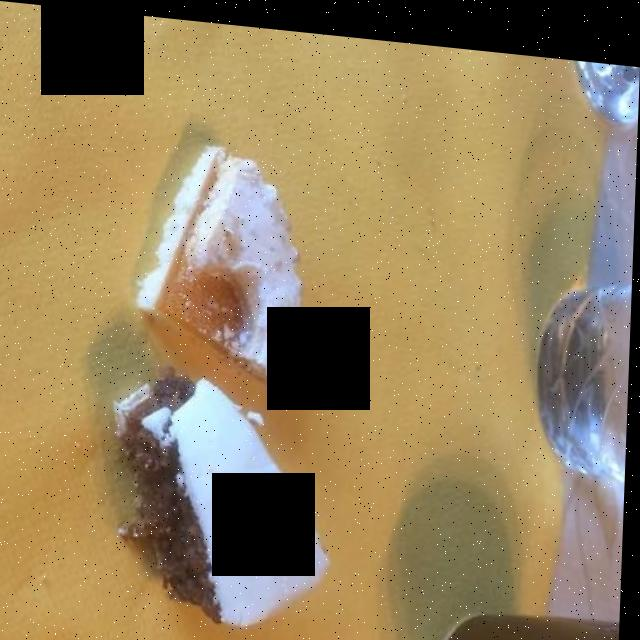tart: (121, 374, 329, 617), (147, 132, 305, 382)
